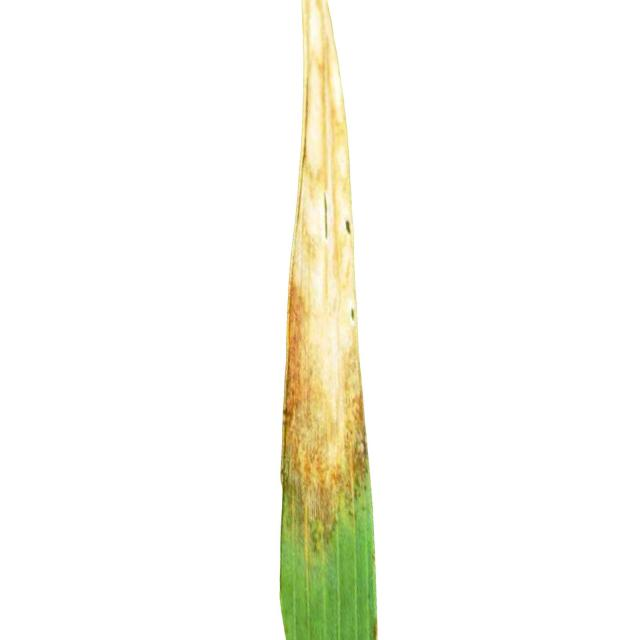Leaf scald: (134, 0, 490, 640)
